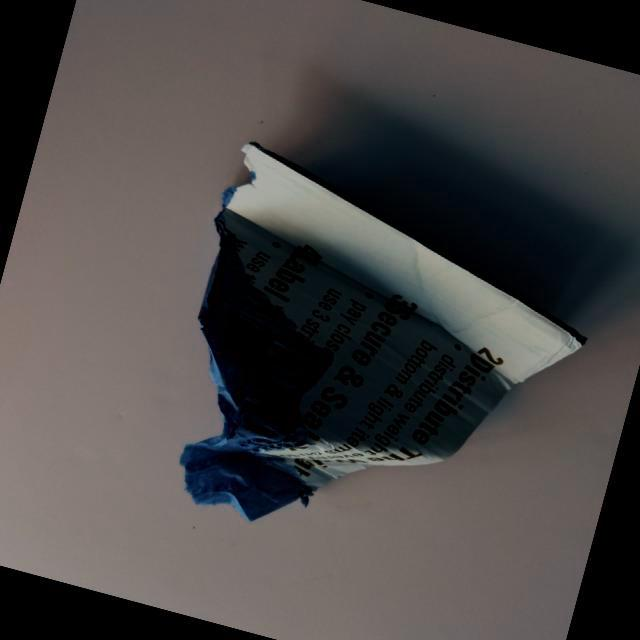cardboard: (97, 111, 627, 604)
